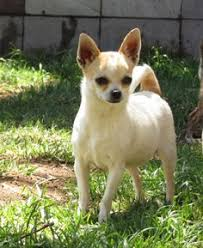chihuahua: (41, 18, 189, 226)
